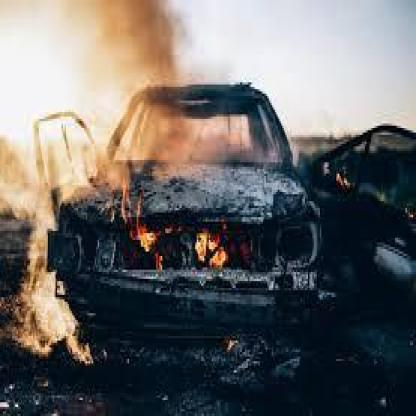fire: (0, 17, 311, 360)
